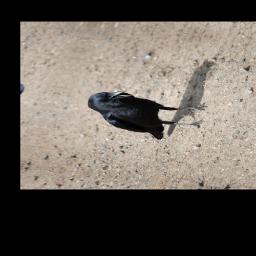Crow: (74, 87, 214, 144)
